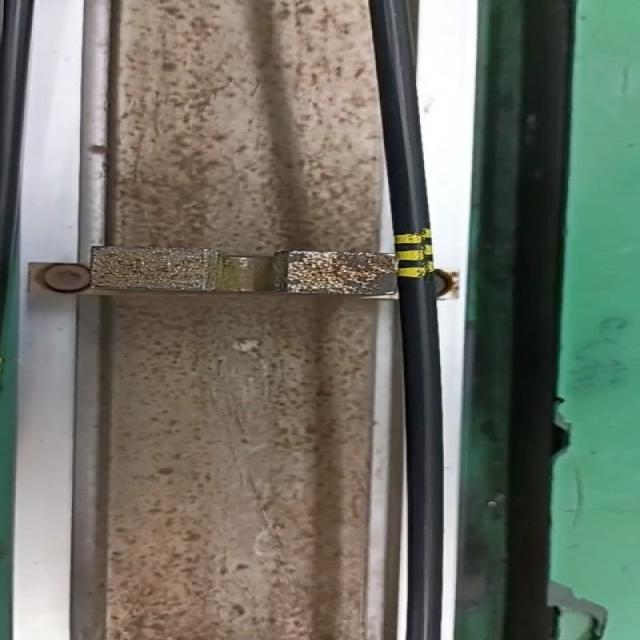yellow: (396, 232, 438, 279)
